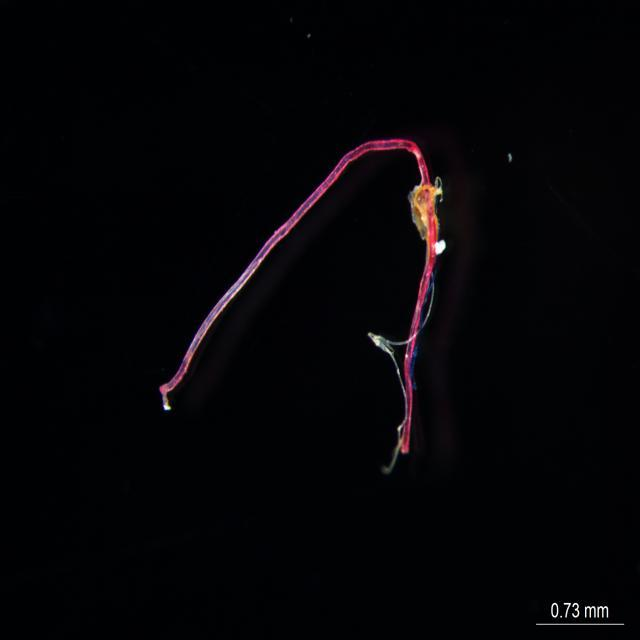fibers: (153, 94, 487, 477)
